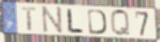7: (134, 10, 150, 37)
D: (86, 8, 108, 36)
L: (66, 8, 85, 34)
N: (41, 6, 63, 36)
Q: (109, 9, 132, 38)
T: (20, 7, 38, 32)
